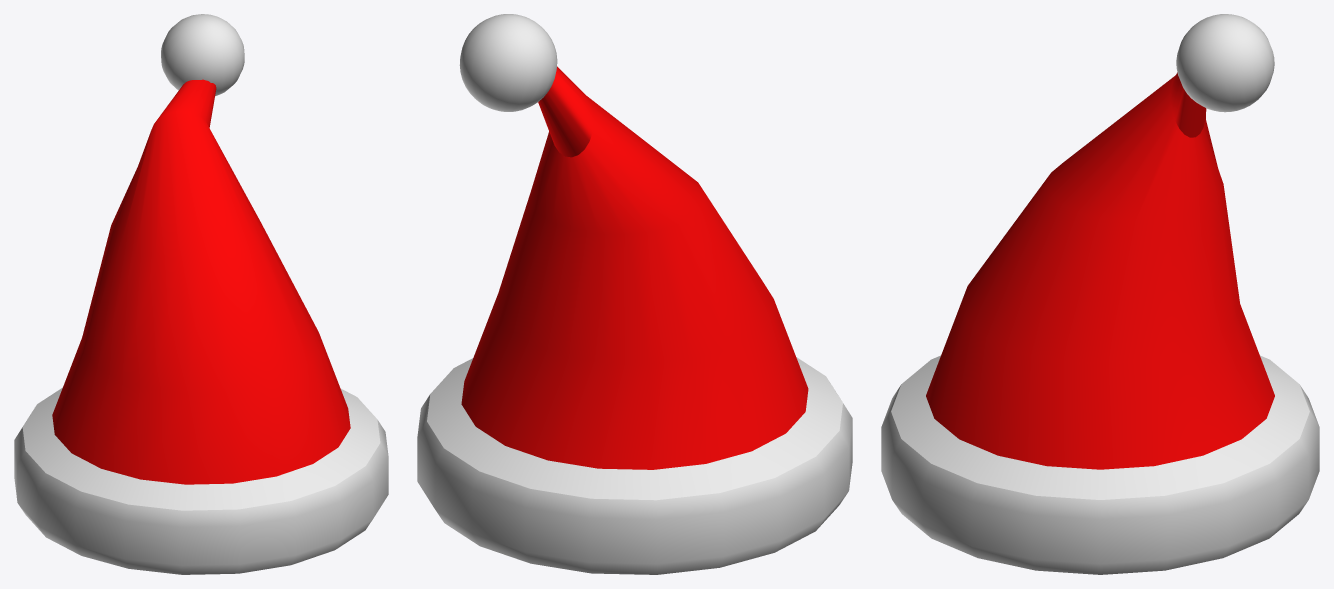
Rendered from 산타모자.fbx.
The picture shows the model from 3 angles, left to right: view 1: azimuth 30°, elevation 25°; view 2: azimuth 150°, elevation 25°; view 3: azimuth 270°, elevation 25°; orthographic projection. The views are drawn at different scales.
Visible parts, largest first — view 1: pCylinder1, pSphere1; view 2: pCylinder1, pSphere1; view 3: pCylinder1, pSphere1.
Part boxes in pixels (box(x1,y1,x2,y2)): pCylinder1: box(14, 79, 388, 574); pSphere1: box(161, 14, 244, 96); pCylinder1: box(417, 66, 852, 574); pSphere1: box(459, 14, 557, 111); pCylinder1: box(881, 72, 1319, 574); pSphere1: box(1176, 14, 1274, 112).
Size of the model in its own units: 1.79 by 2.3 by 1.79.
